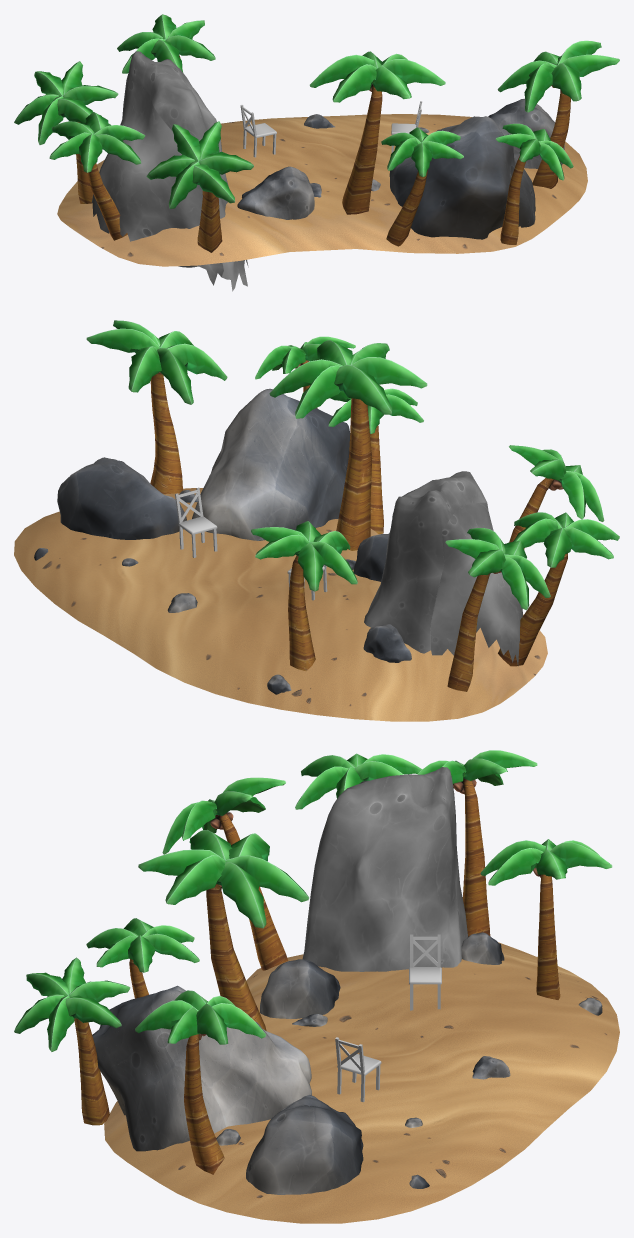
File: all_scene.FBX
3 renders of one model, top to bottom at view 1: azimuth 30°, elevation 25°; view 2: azimuth 150°, elevation 25°; view 3: azimuth 270°, elevation 25°, orthographic. The views are drawn at different scales.
Visible parts, largest first — view 1: palm, sand, kaya, kaya2, sandalye_low; view 2: sand, palm, kaya, kaya2, sandalye_low001; view 3: sand, palm, kaya, kaya2, sandalye_low, sandalye_low001.
Boxes of the visible parts, x1,y1,x2,y2 form: palm: (14, 14, 619, 252); sand: (57, 114, 587, 266); kaya: (237, 98, 564, 239); kaya2: (92, 51, 248, 291); sandalye_low: (240, 105, 276, 157); sand: (14, 488, 547, 721); palm: (86, 320, 619, 691); kaya: (34, 388, 411, 694); kaya2: (364, 471, 522, 666); sandalye_low001: (175, 487, 217, 557); sand: (104, 942, 619, 1223); palm: (14, 750, 612, 1174); kaya: (92, 932, 602, 1194); kaya2: (302, 767, 467, 971); sandalye_low: (409, 934, 441, 1010); sandalye_low001: (335, 1037, 381, 1102).
Size of the model in its own units: 340 by 144 by 265.
